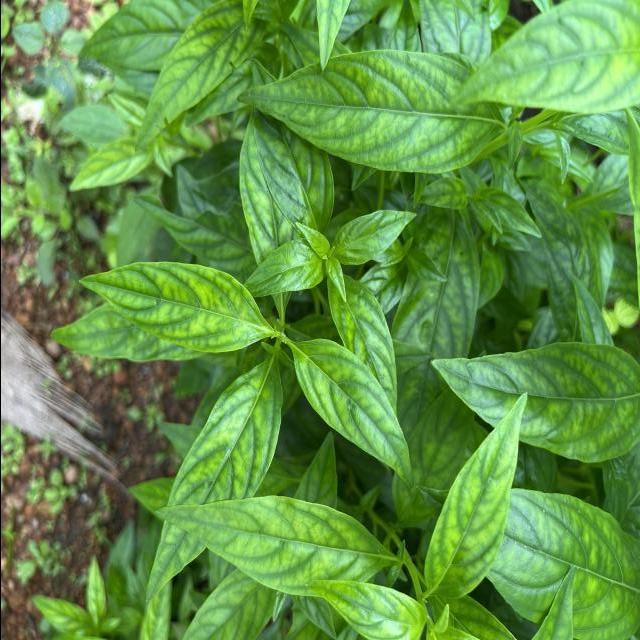Andrographis paniculata: (144, 352, 284, 604), (236, 46, 504, 176), (428, 340, 640, 466), (153, 493, 394, 598), (422, 390, 528, 601), (290, 339, 416, 491), (130, 0, 254, 154), (74, 258, 272, 354), (326, 276, 402, 414), (303, 577, 428, 640), (240, 234, 328, 297), (329, 206, 418, 268), (472, 184, 544, 243)
